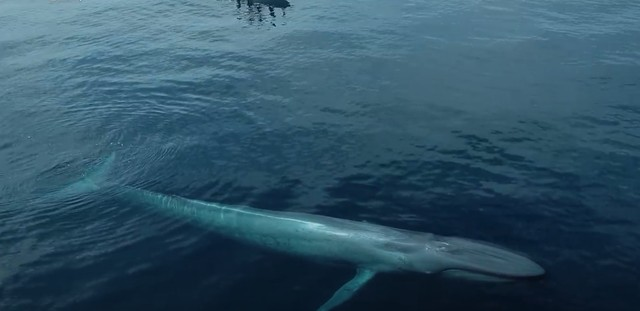whale: (31, 148, 547, 310)
